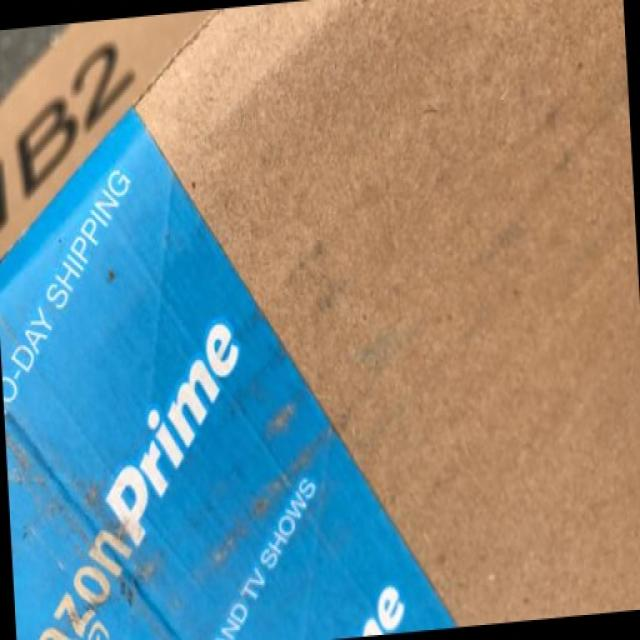carton: (20, 93, 484, 607)
